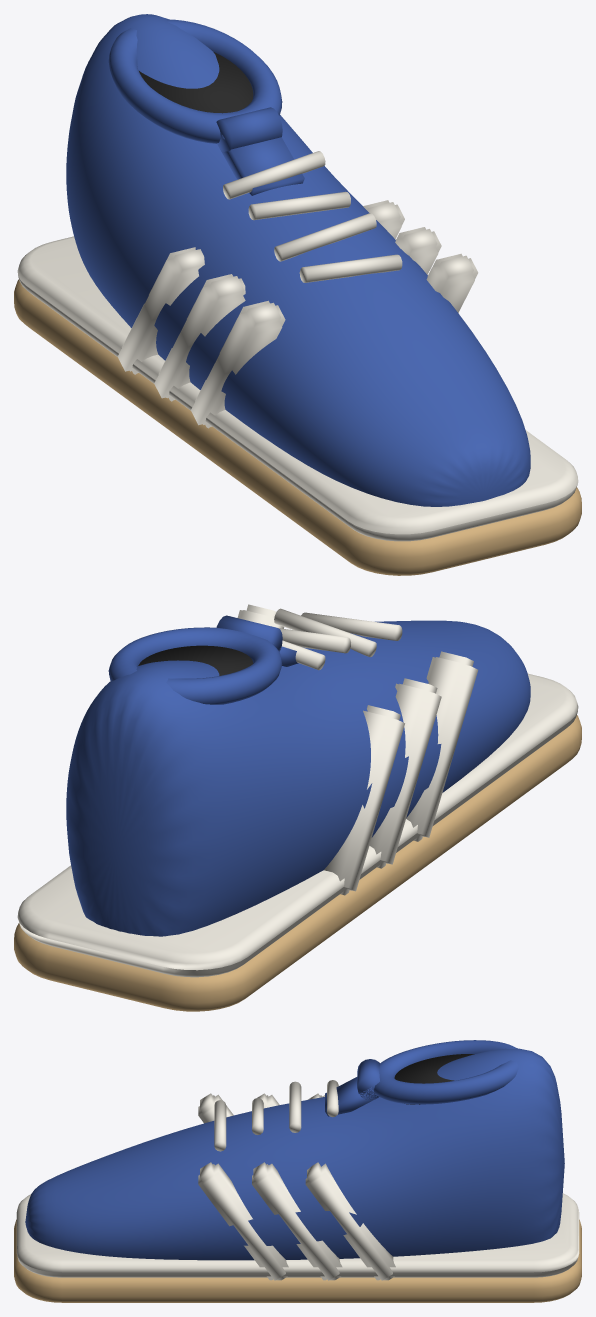
The model's file is sneaker.glb.
3 views of the same model, one above another, from view 1: azimuth 30°, elevation 25°; view 2: azimuth 150°, elevation 25°; view 3: azimuth 270°, elevation 25° (orthographic). The views are drawn at different scales.
Parts seen in each view (by area): view 1: sneaker; view 2: sneaker; view 3: sneaker.
Part boxes in pixels (box(x1,y1,x2,y2)): sneaker: box(14, 14, 581, 575); sneaker: box(14, 604, 581, 1011); sneaker: box(14, 1040, 581, 1302).
Bounding box in the file's own units: 0.364 × 0.4421 × 1.06.
